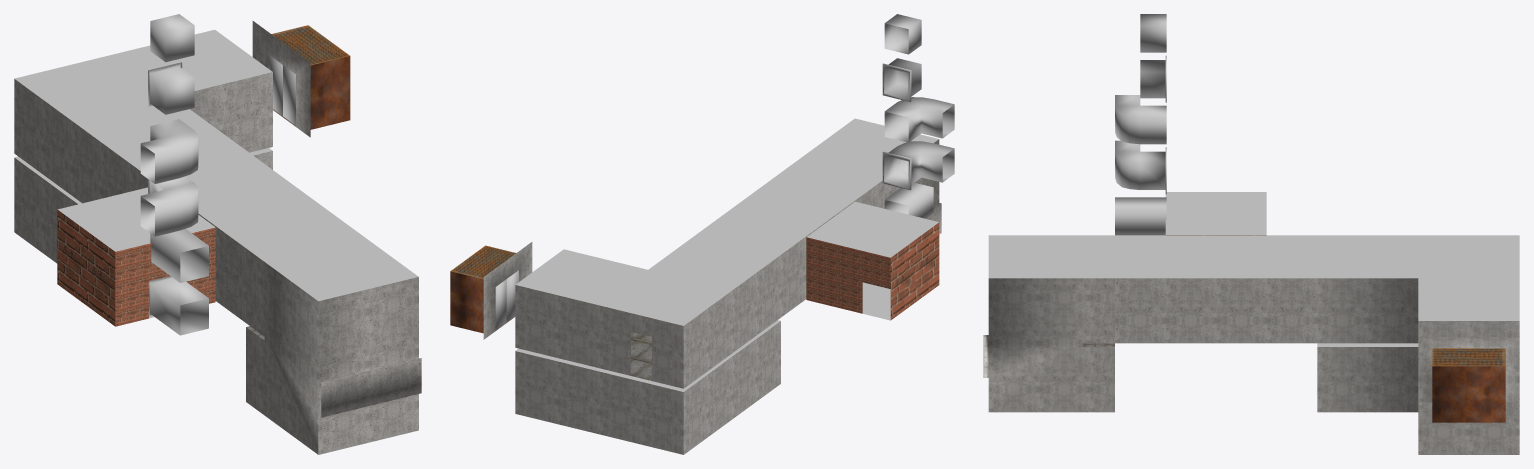
File: LabirintEditor.fbx
3 views of the same model, side by side, from view 1: azimuth 30°, elevation 25°; view 2: azimuth 150°, elevation 25°; view 3: azimuth 270°, elevation 25° (orthographic). The views are drawn at different scales.
Visible parts, largest first — view 1: Wals.6, Up.2.2, Wals.2, Up, Up.7, Wals.2.2, Wals.Dop, Wals.wen1, Wals.3, Up.6, Chene4, Chenel3 (+11 smaller); view 2: Up.2.2, Wals.2, Wals.3, Up, DopWall2.2, Wals.wen2, DopWall2, Up.6, Up.7, Wals.2.2, Chenel3, Chene4 (+13 smaller); view 3: Wals.6, Wals, Up.2.2, Up, Wals_Door, Wals.2, Wals.3, Up.7, Up.6, Lift, DpWal.2, Lipht (+7 smaller).
Part boxes in pixels (x1,y1,x2,y2): Wals.6: (246,248,421,454); Up.2.2: (14,29,272,163); Wals.2: (14,72,272,203); Up: (130,139,345,248); Up.7: (246,224,418,301); Wals.2.2: (57,209,115,326); Wals.Dop: (318,352,418,454); Wals.wen1: (115,227,215,326); Wals.3: (14,151,272,263); Up.6: (57,187,215,251); Chene4: (140,119,198,183); Chenel3: (140,176,198,236); Up.2.2: (515,234,780,325); Wals.2: (515,255,780,388); Wals.3: (515,321,780,454); Up: (697,163,877,254); DopWall2.2: (599,371,683,454); Wals.wen2: (806,237,890,313); DopWall2: (599,305,683,388); Up.6: (807,201,938,257); Up.7: (794,118,938,183); Wals.2.2: (890,222,939,320); Chenel3: (882,141,954,190); Chene4: (884,97,954,142); Wals.6: (983,278,1114,412); Wals: (1115,278,1317,343); Up.2.2: (1317,235,1519,320); Up: (1115,235,1317,278); Wals_Door: (1115,278,1317,343); Wals.2: (1317,278,1418,343); Wals.3: (1317,347,1418,412); Up.7: (988,235,1114,278); Up.6: (1165,192,1266,234); Lift: (1432,366,1505,422); DpWal.2: (1418,402,1519,454); Lipht: (1418,337,1519,402).
Bounding box in the file's own units: 1545 × 1429 × 2120.
